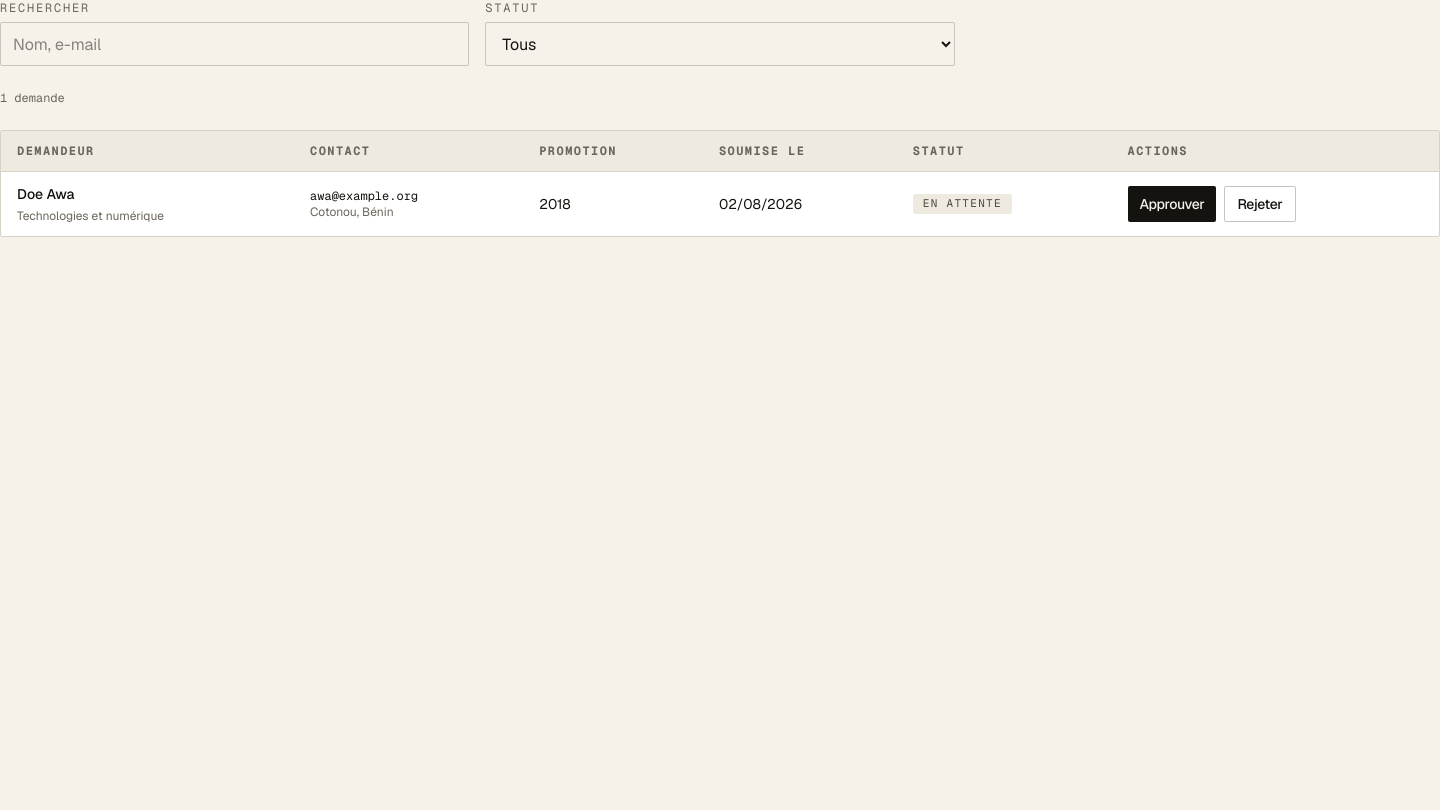
Test case: RegistrationsView › ferme la modale sans rejeter quand on annule
Expected: the text "Doe Awa" is shown, x1=17 y1=185 x2=74 y2=203
Click the button "Rejeter".
click(1260, 204)  # box x1=1224 y1=186 x2=1296 y2=222
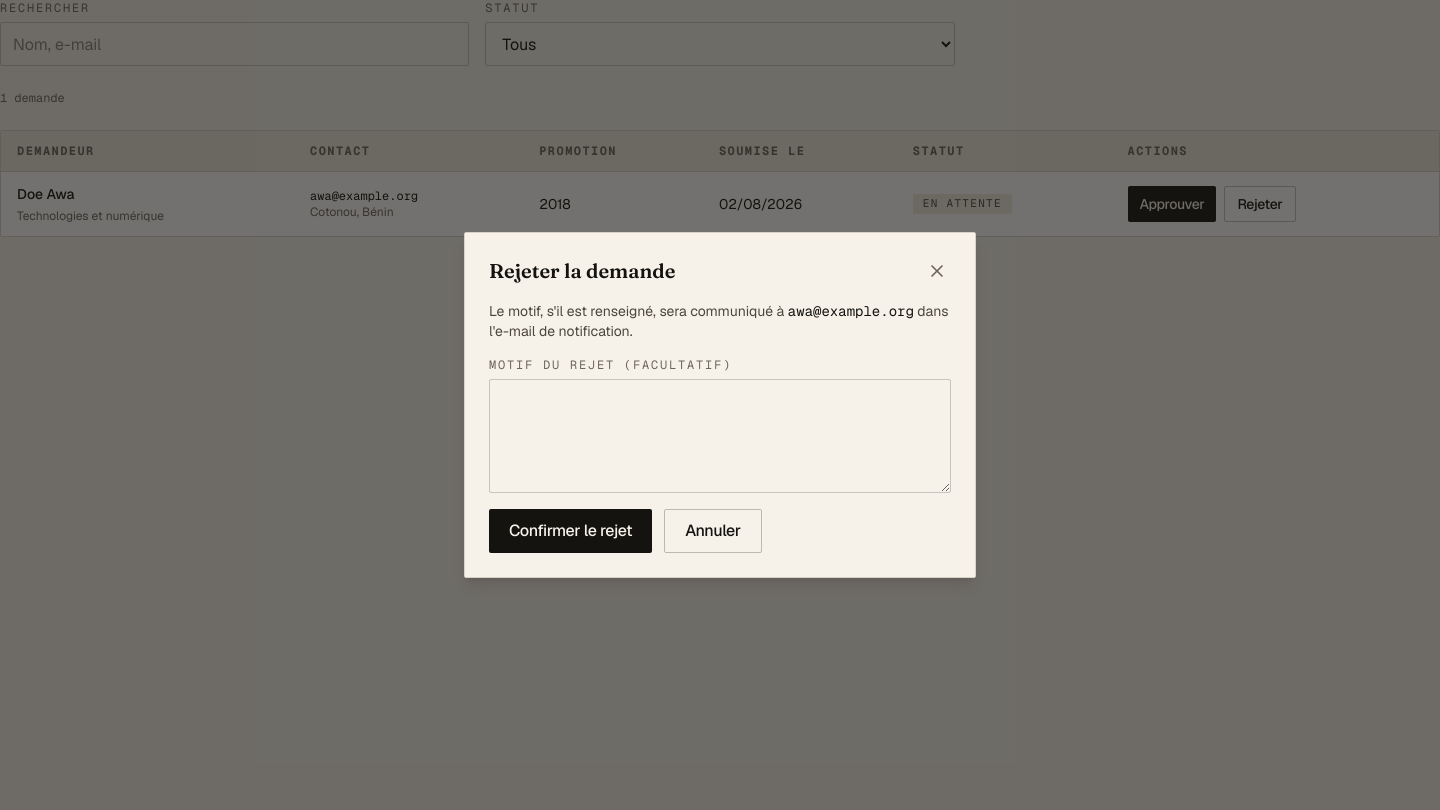
Click the button "Annuler".
click(713, 531)  # box x1=664 y1=509 x2=762 y2=553
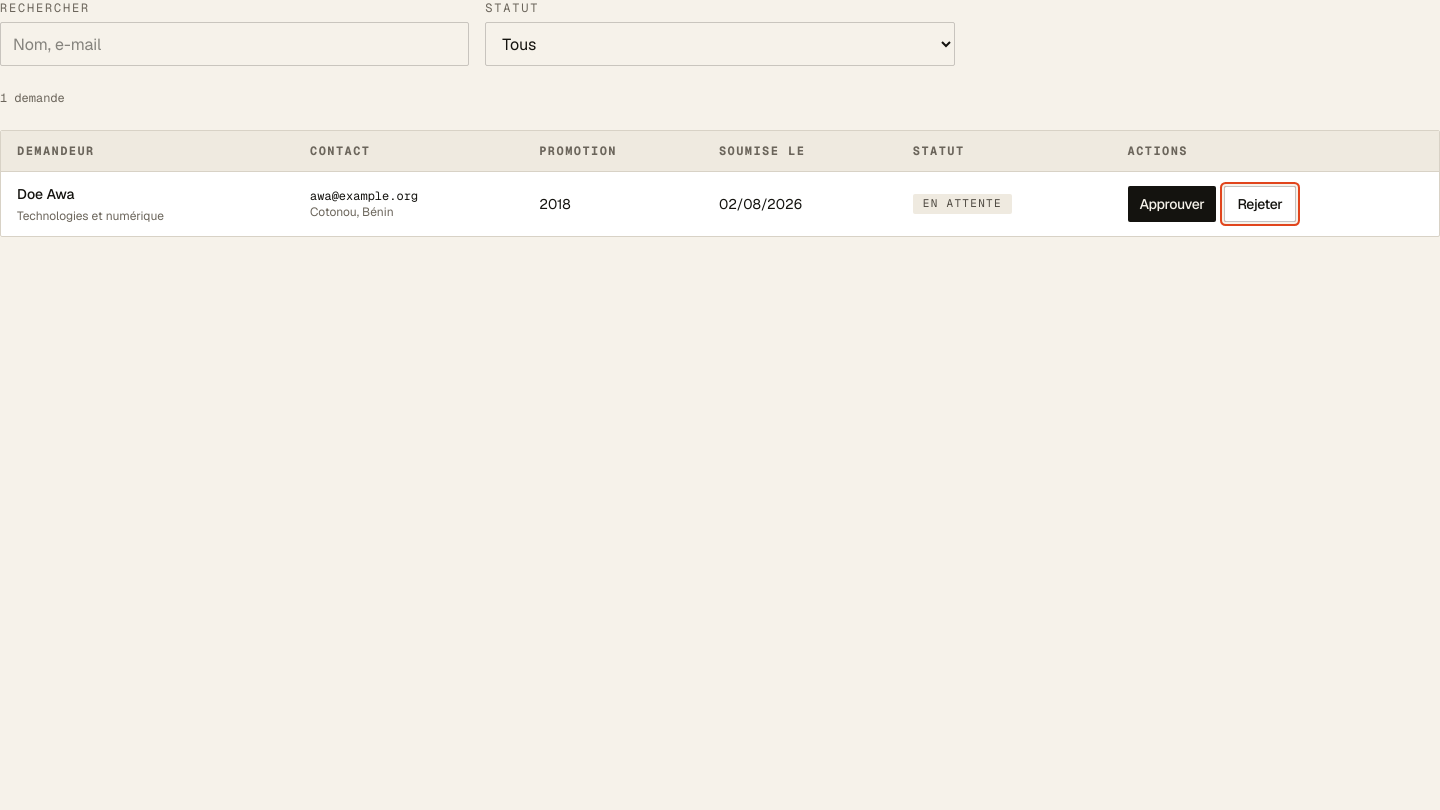
Now the dialog is gone
